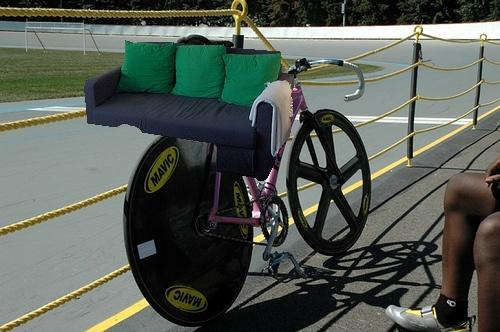tampered: (85, 41, 294, 181)
